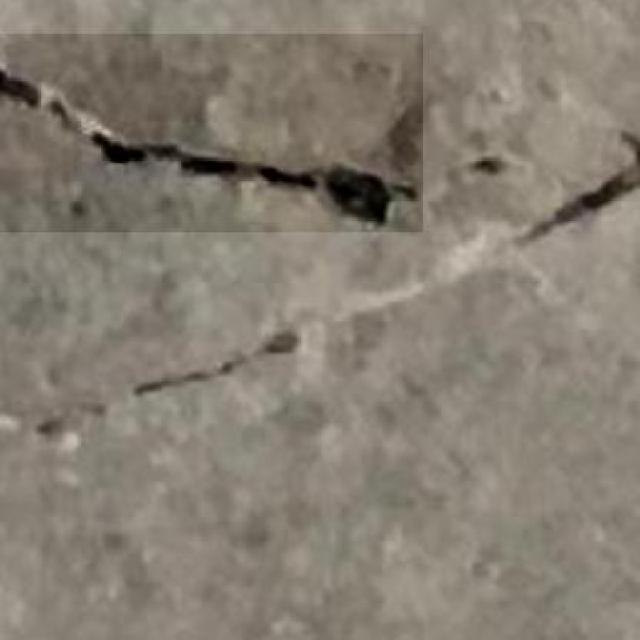Crack: (2, 43, 415, 236), (39, 316, 368, 445), (496, 124, 640, 254)
